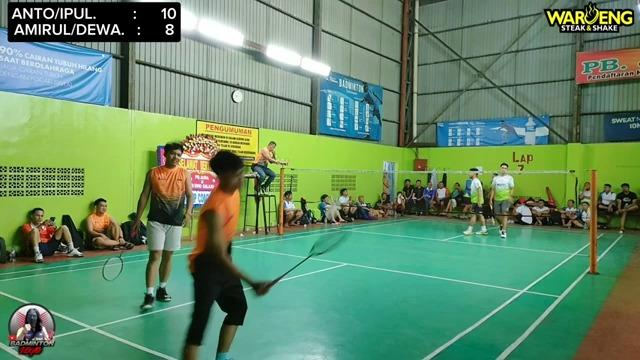Shuttlecock: (322, 202, 340, 220)
